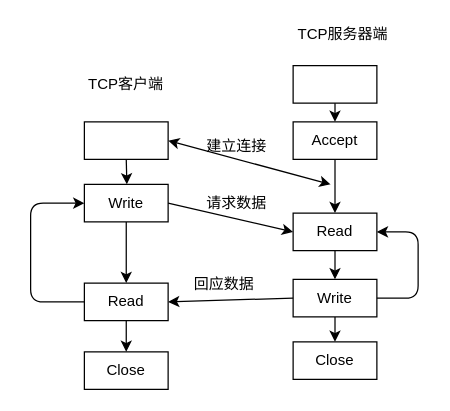
The diagram is 450 pixels wide and 411 high, and some of its shapes have lost their labels. Each missing label, with the centre of its shape:
Dial: point (125, 140)
Listen: point (334, 83)
